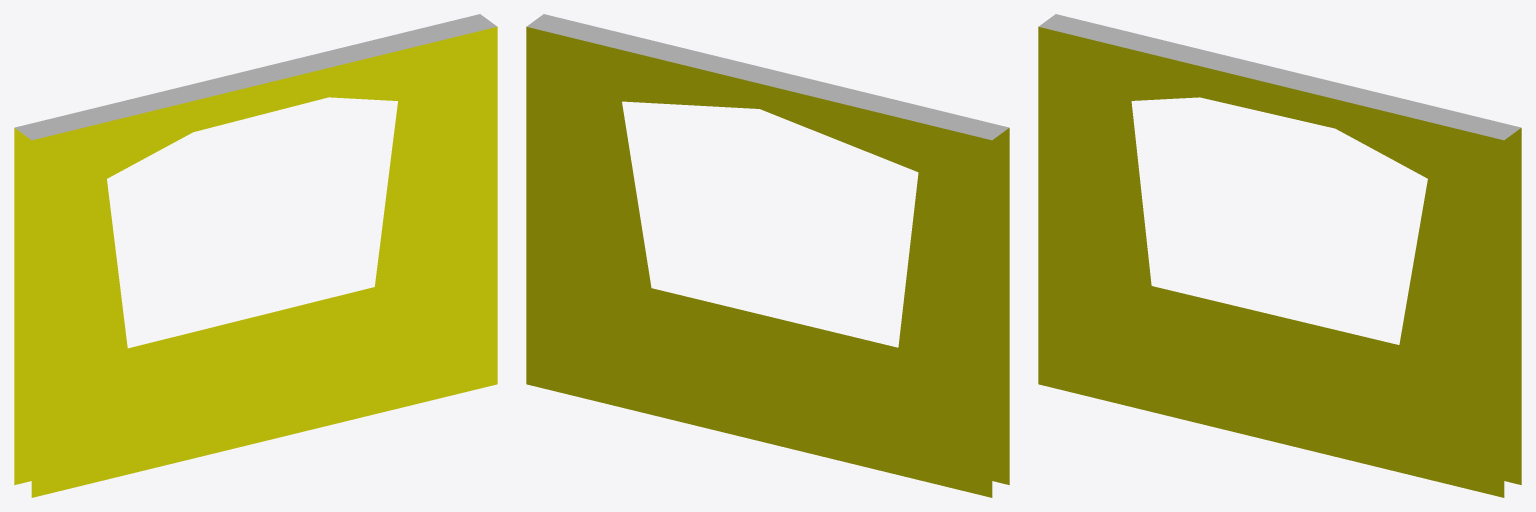
The model's file is W_I2_o_Fenster [Gelb]_1966.glb.
The picture shows the model from 3 angles, left to right: view 1: azimuth 30°, elevation 25°; view 2: azimuth 150°, elevation 25°; view 3: azimuth 330°, elevation 25°; orthographic projection.
Visible parts, largest first — view 1: pPlaneShape3, pPlaneShape2, pPlaneShape1; view 2: pPlaneShape2, pPlaneShape3, pPlaneShape1; view 3: pPlaneShape3, pPlaneShape2, pPlaneShape1.
Part boxes in pixels (left/top/right/bottom): pPlaneShape3: left=31, top=27, right=497, bottom=497; pPlaneShape2: left=14, top=101, right=421, bottom=484; pPlaneShape1: left=15, top=14, right=497, bottom=140; pPlaneShape2: left=526, top=27, right=992, bottom=497; pPlaneShape3: left=607, top=100, right=1009, bottom=484; pPlaneShape1: left=526, top=14, right=1008, bottom=140; pPlaneShape3: left=1038, top=27, right=1504, bottom=497; pPlaneShape2: left=1113, top=101, right=1521, bottom=484; pPlaneShape1: left=1038, top=14, right=1520, bottom=140.
Bounding box in the file's own units: 0.4752 × 0.3486 × 0.0308.
